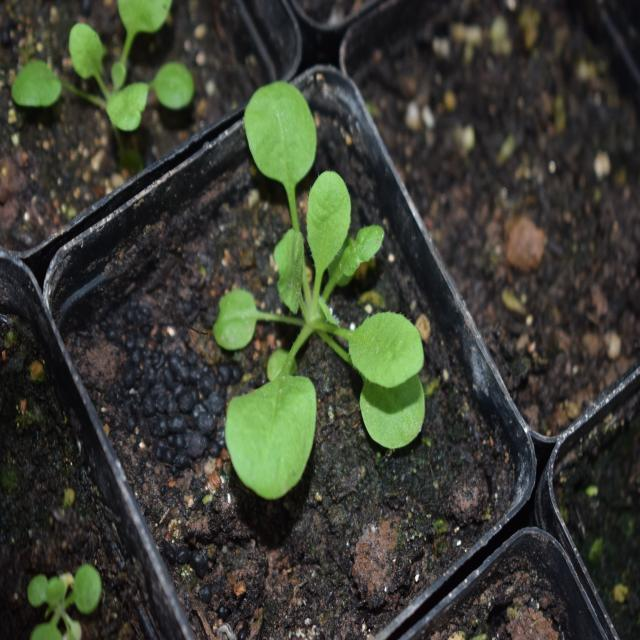Shepherd_Purse: (223, 83, 439, 514)
